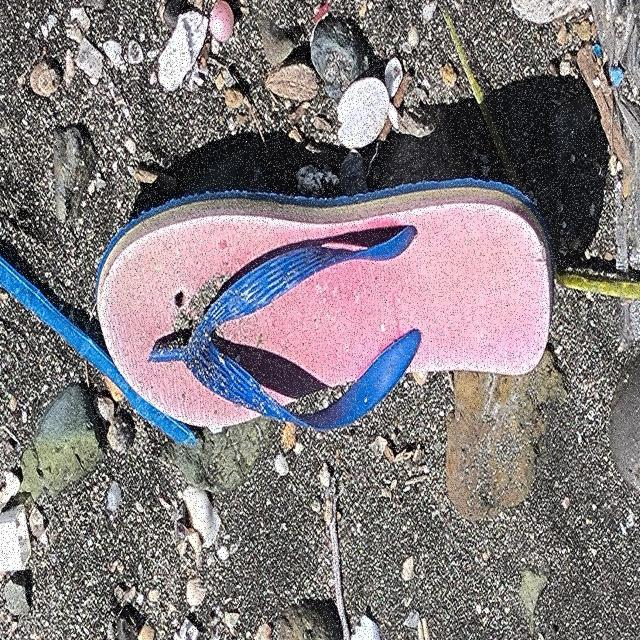plastic_waste: (1, 257, 196, 451), (438, 1, 521, 193)
rubber_waste: (96, 179, 554, 438)
